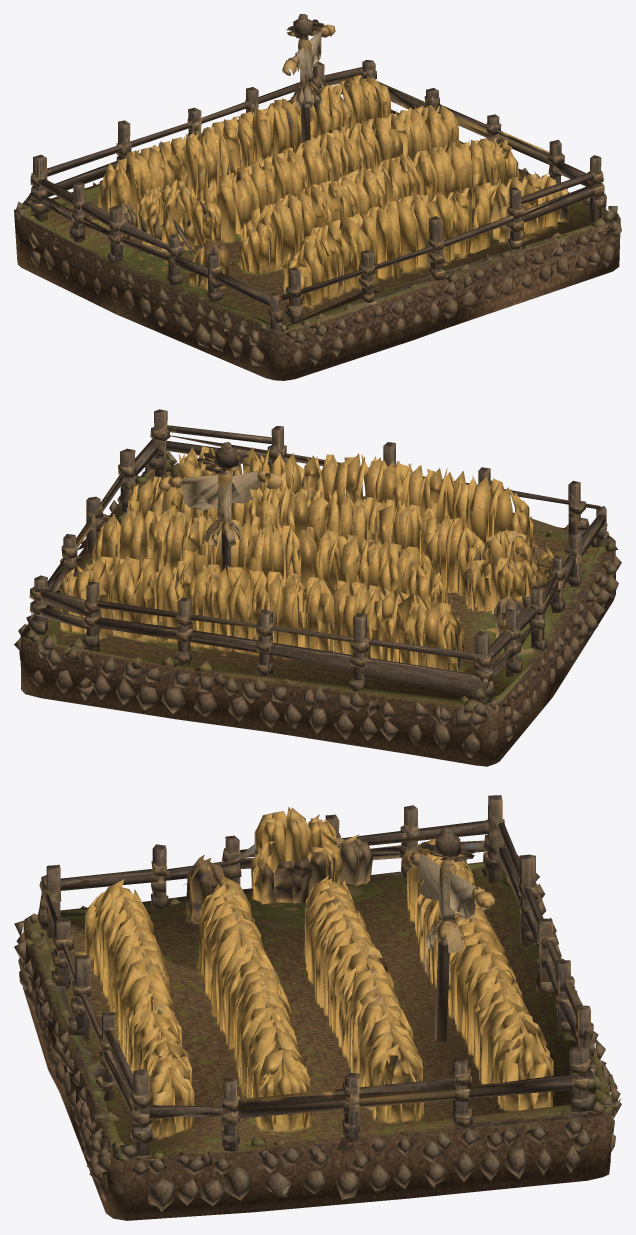
The model's file is Meshy_AI_model.glb.
3 views of the same model, one above another, from view 1: azimuth 30°, elevation 25°; view 2: azimuth 150°, elevation 25°; view 3: azimuth 270°, elevation 25° (orthographic). The views are drawn at different scales.
Bounding box in the file's own units: 1 × 0.4337 × 0.881.
1 material, 1 textured.
